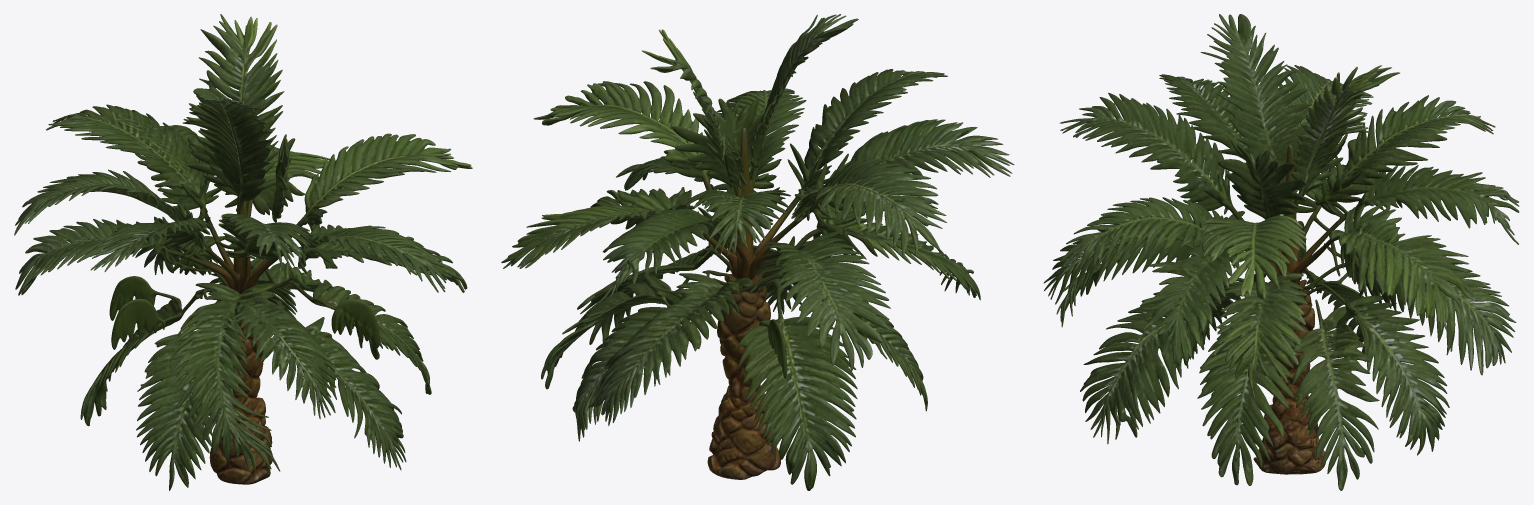
The model's file is bennettitales.glb.
3 renders of one model, left to right at view 1: azimuth 30°, elevation 25°; view 2: azimuth 150°, elevation 25°; view 3: azimuth 270°, elevation 25°, orthographic. The views are drawn at different scales.
Visible parts, largest first — view 1: tripo_node_d12e3e1d-f39b-496f-a720-d79f03c5e4f2; view 2: tripo_node_d12e3e1d-f39b-496f-a720-d79f03c5e4f2; view 3: tripo_node_d12e3e1d-f39b-496f-a720-d79f03c5e4f2.
Boxes of the visible parts, left/top/right/bottom form: tripo_node_d12e3e1d-f39b-496f-a720-d79f03c5e4f2: left=14, top=14, right=472, bottom=490; tripo_node_d12e3e1d-f39b-496f-a720-d79f03c5e4f2: left=501, top=14, right=1014, bottom=490; tripo_node_d12e3e1d-f39b-496f-a720-d79f03c5e4f2: left=1043, top=14, right=1519, bottom=490.
Bounding box in the file's own units: 0.9804 × 0.9515 × 0.9758.
Materials: 1 (1 with a texture image).
